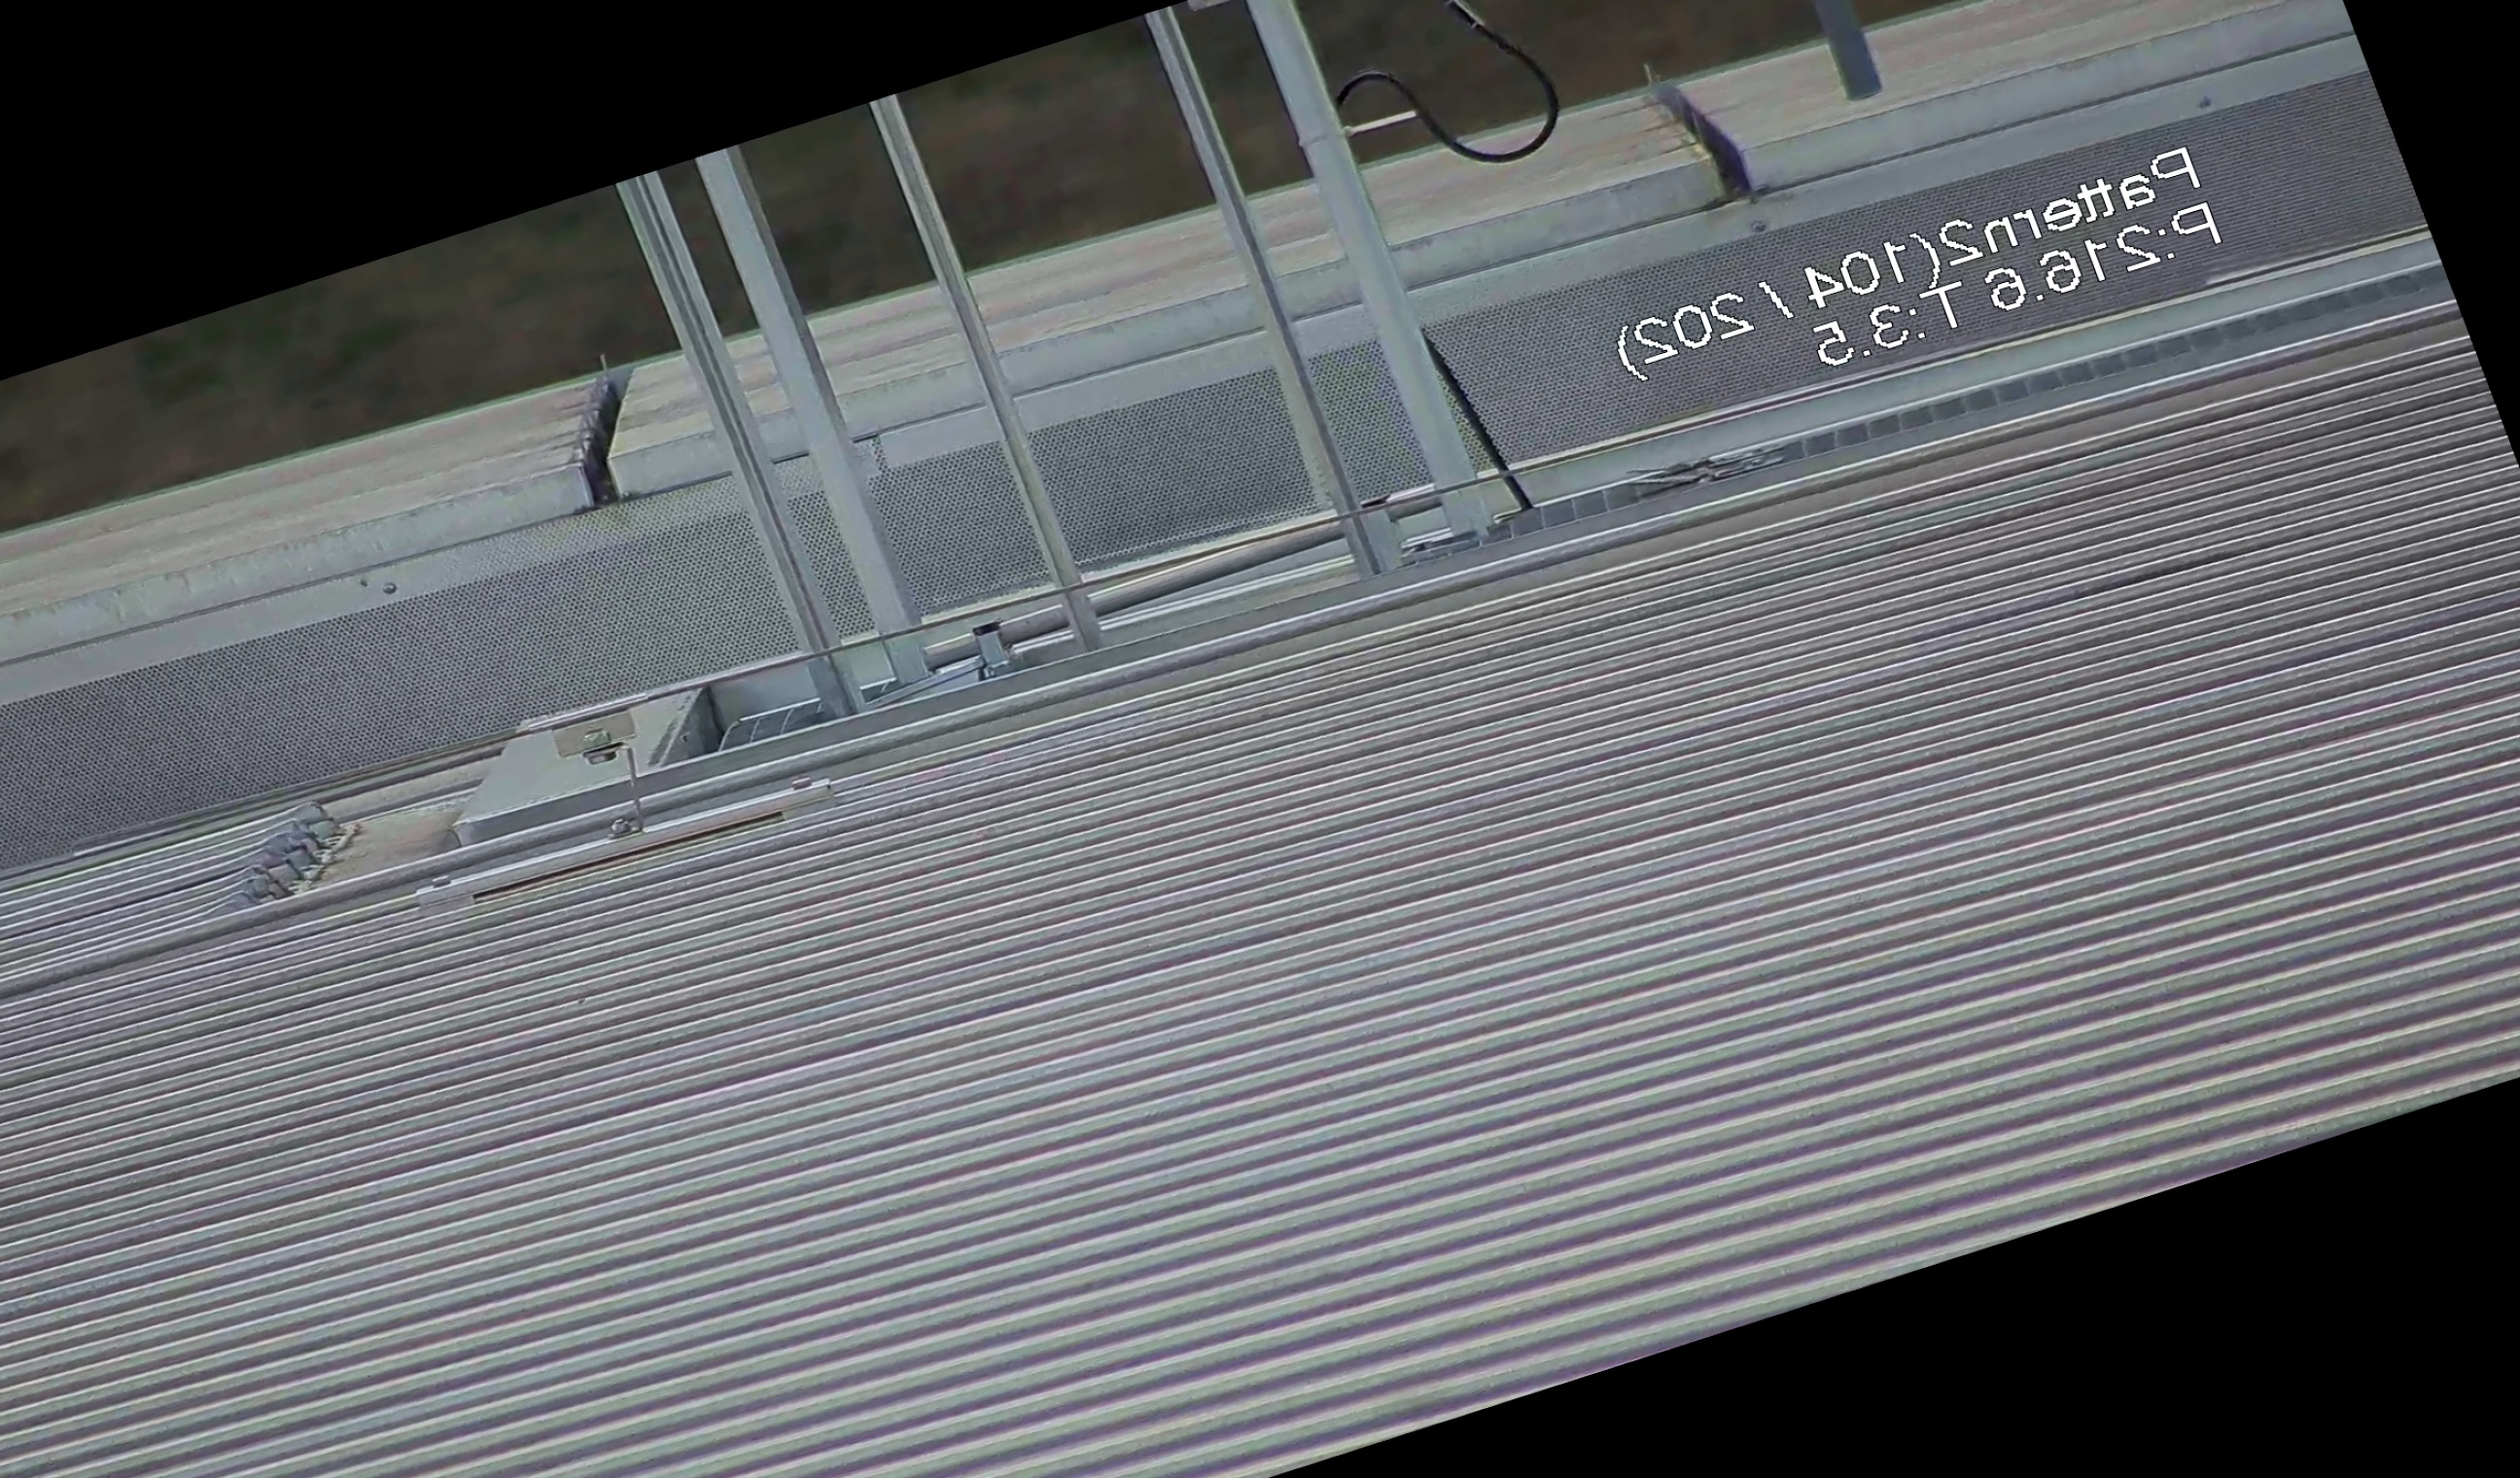Other: (517, 331, 700, 524)
